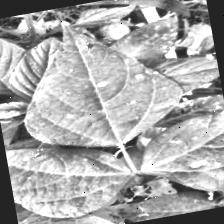Bean Rust: (12, 10, 185, 160), (2, 113, 137, 224), (130, 93, 224, 197), (17, 203, 133, 224)
